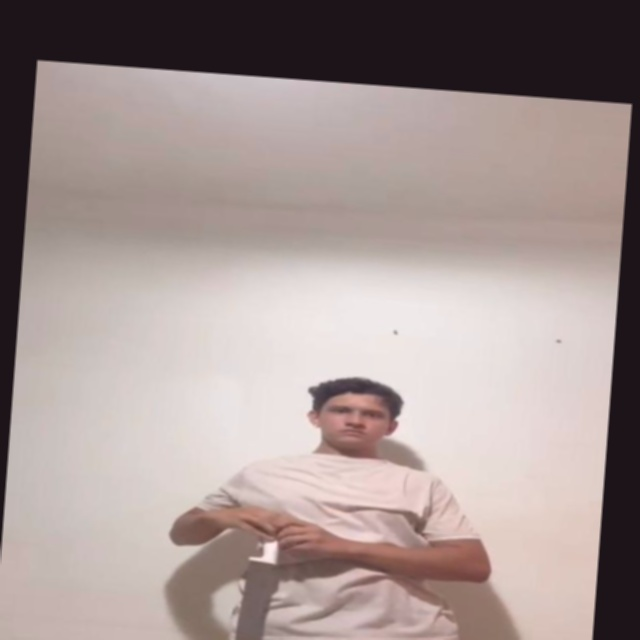Sharp-Object: (230, 560, 280, 640)
